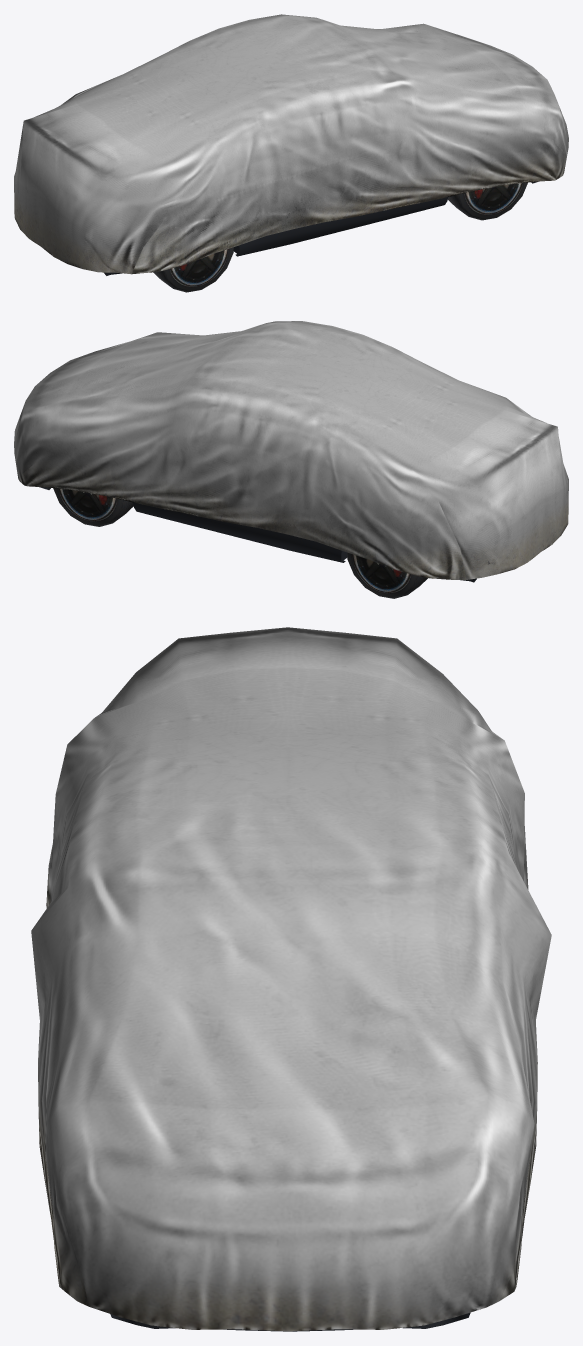
File: Drapery.FBX
The picture shows the model from 3 angles, top to bottom: view 1: azimuth 30°, elevation 25°; view 2: azimuth 150°, elevation 25°; view 3: azimuth 270°, elevation 25°; orthographic projection. The views are drawn at different scales.
Parts seen in each view (by area): view 1: Drapery; view 2: Drapery; view 3: Drapery.
Boxes of the visible parts, bbox=[...] form: Drapery: bbox=[14, 14, 568, 292]; Drapery: bbox=[14, 321, 568, 598]; Drapery: bbox=[31, 627, 551, 1331].
Size of the model in its own units: 428 by 135 by 192.
2 materials, 2 textured.
